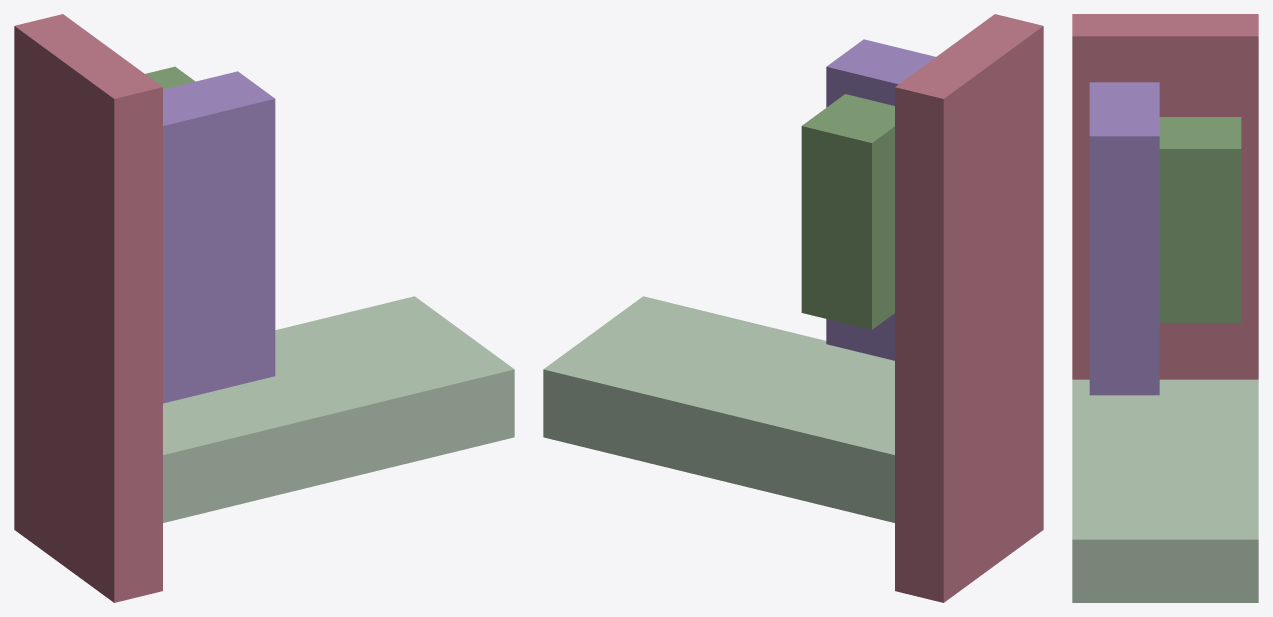
File: 199514_pred.glb
3 views of the same model, side by side, from view 1: azimuth 30°, elevation 25°; view 2: azimuth 150°, elevation 25°; view 3: azimuth 270°, elevation 25° (orthographic). The views are drawn at different scales.
Visible parts, largest first — view 1: world; view 2: world; view 3: world.
Boxes of the visible parts, <box> form: world: <box>14,14,514,602</box>; world: <box>543,14,1043,602</box>; world: <box>1072,14,1258,602</box>.
Bounding box in the file's own units: 7.4 × 8.9 × 3.2.
